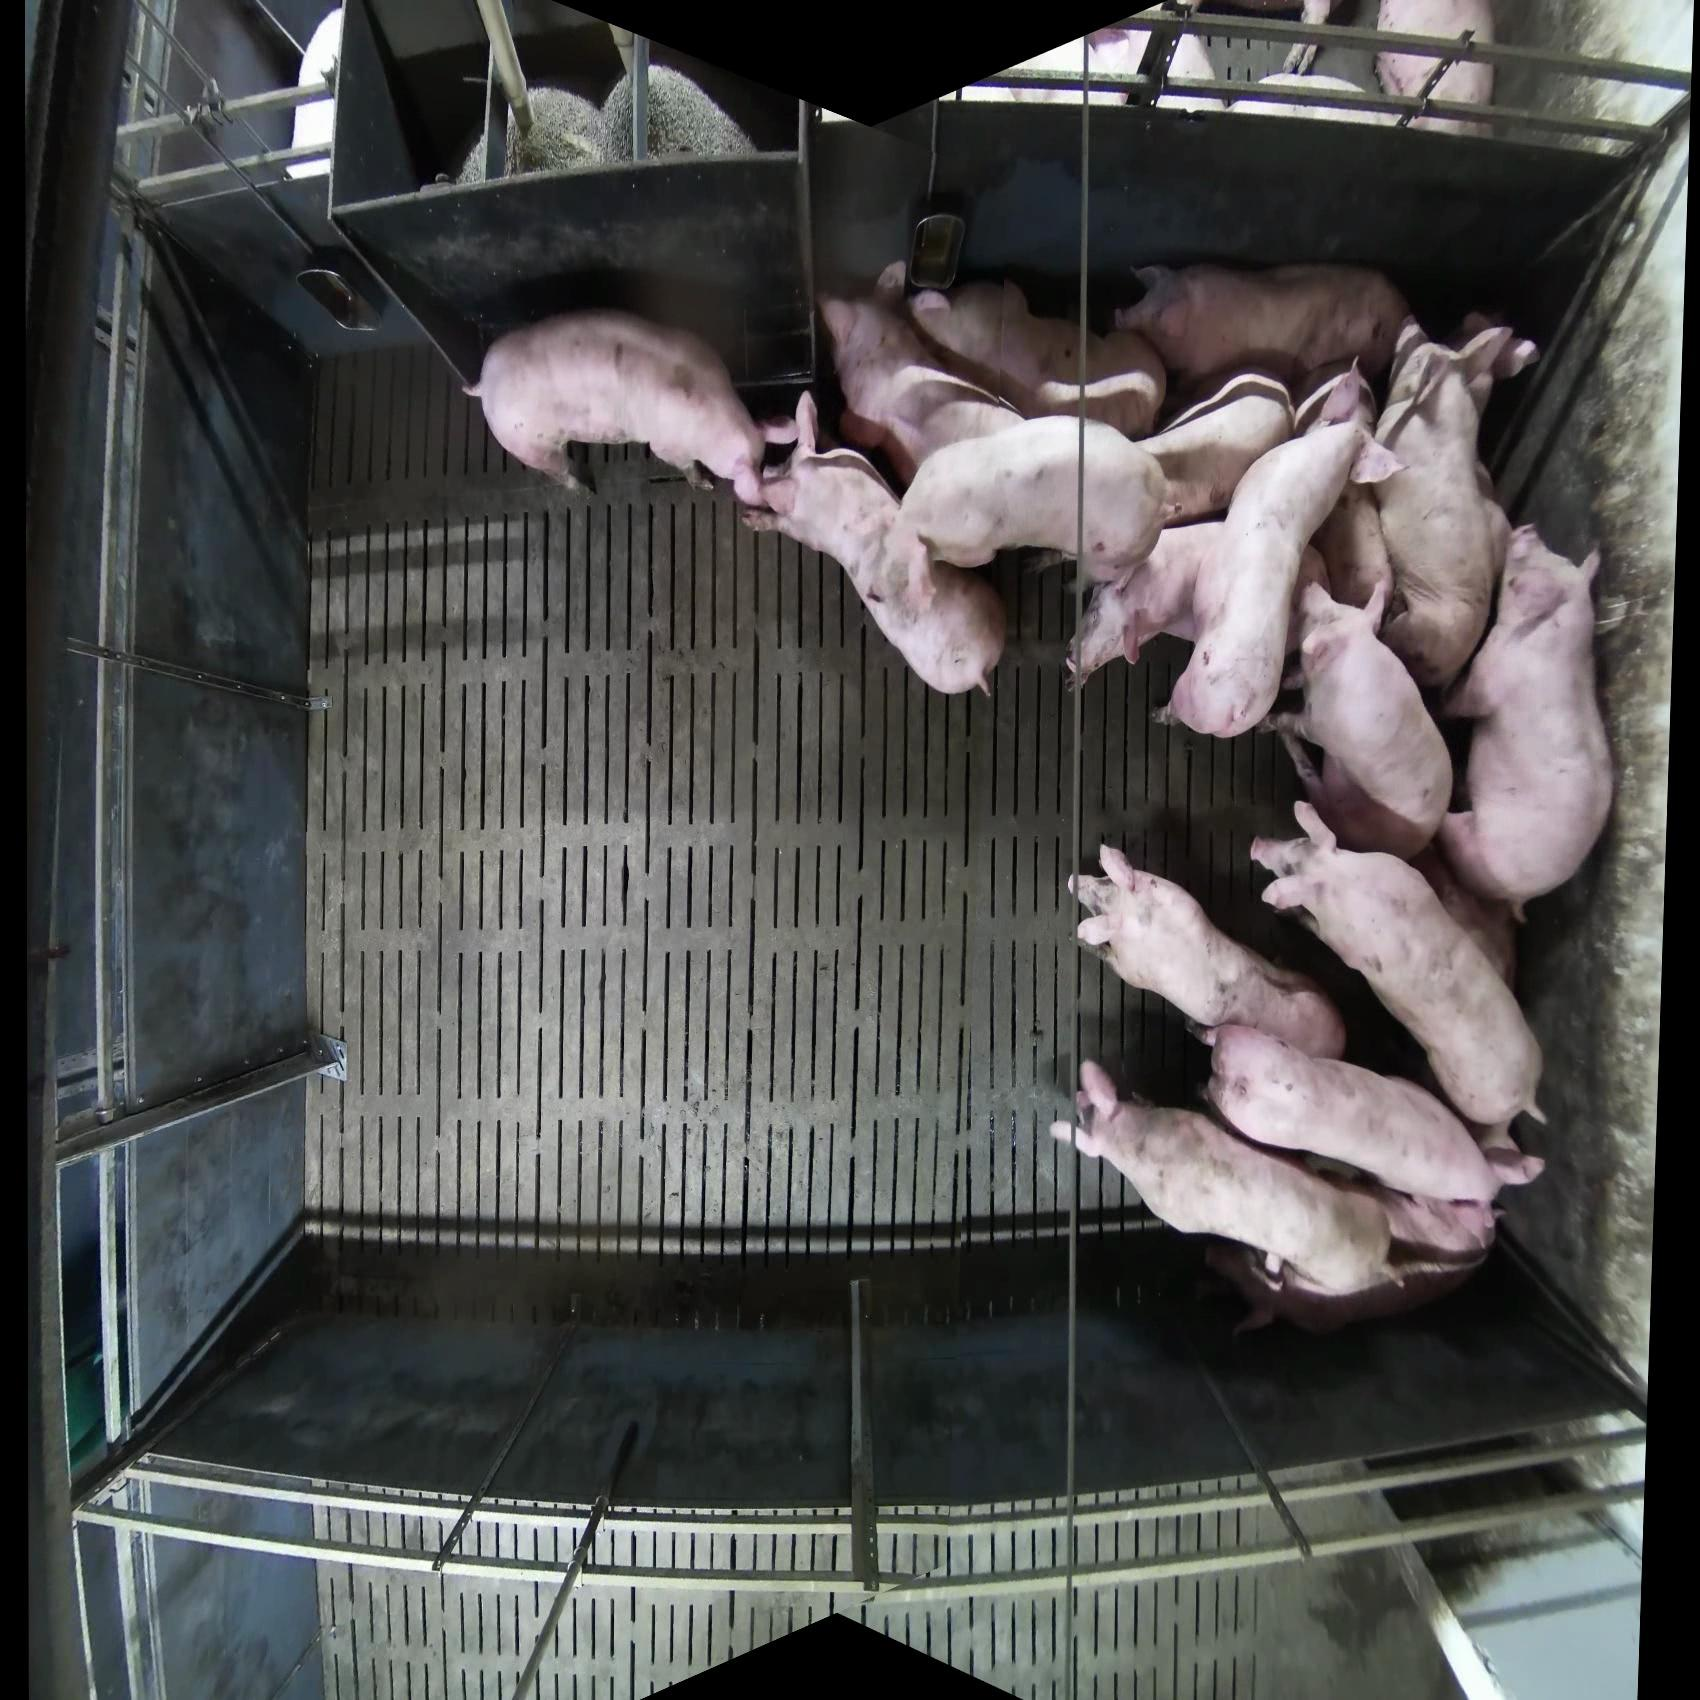pig: (1249, 800, 1549, 1150), (1150, 357, 1406, 739), (739, 391, 1009, 701), (1049, 1057, 1396, 1295), (1351, 313, 1541, 694), (1435, 523, 1617, 918), (1199, 1021, 1546, 1205), (465, 307, 771, 511), (1068, 842, 1347, 1062), (1267, 568, 1456, 861), (897, 413, 1171, 588), (816, 260, 1024, 487), (1202, 1186, 1496, 1337), (908, 277, 1168, 441), (1112, 258, 1415, 392), (1062, 520, 1224, 693), (1133, 367, 1294, 526), (1375, 2, 1498, 137)
